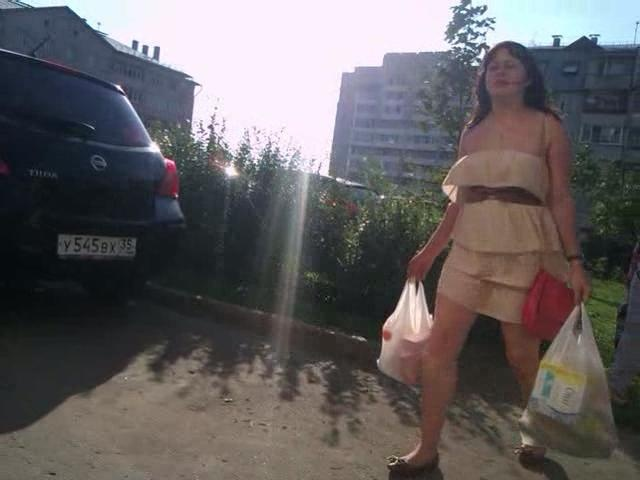car license plate: (55, 229, 138, 259)
